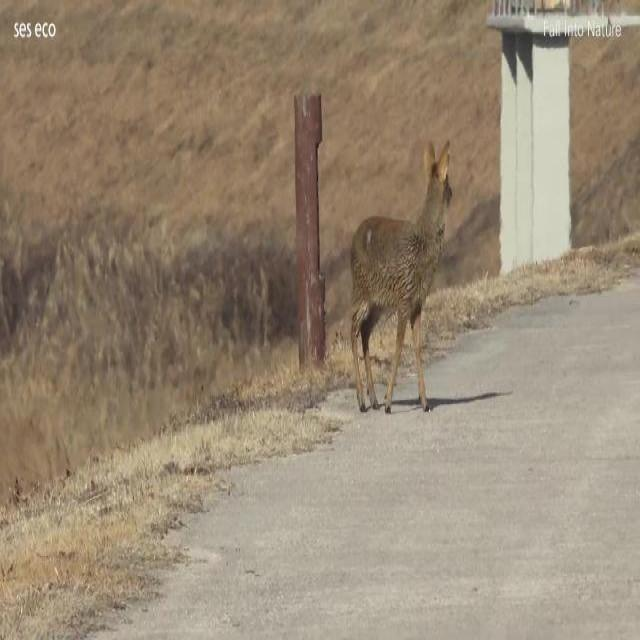deer: (350, 135, 454, 414)
